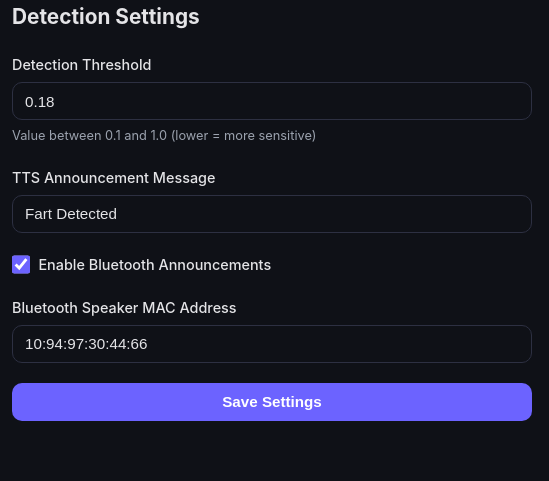
SettingsForm component › happy path: submits valid settings successfully
Expected: the field showing "0.18" is shown, [12,82,532,120]
What coordinates should you click on to do the following:
click the button "Save Settings"
I would click on:
 (272, 402)
Its box is [12,383,532,421].
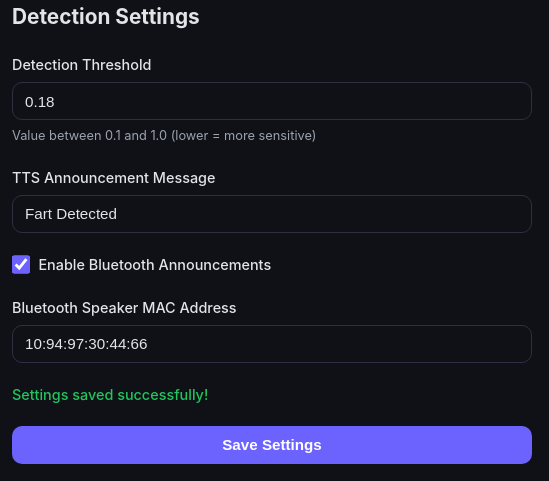
Result: the text "Settings saved successfully!" is shown at [12,386,208,403]
